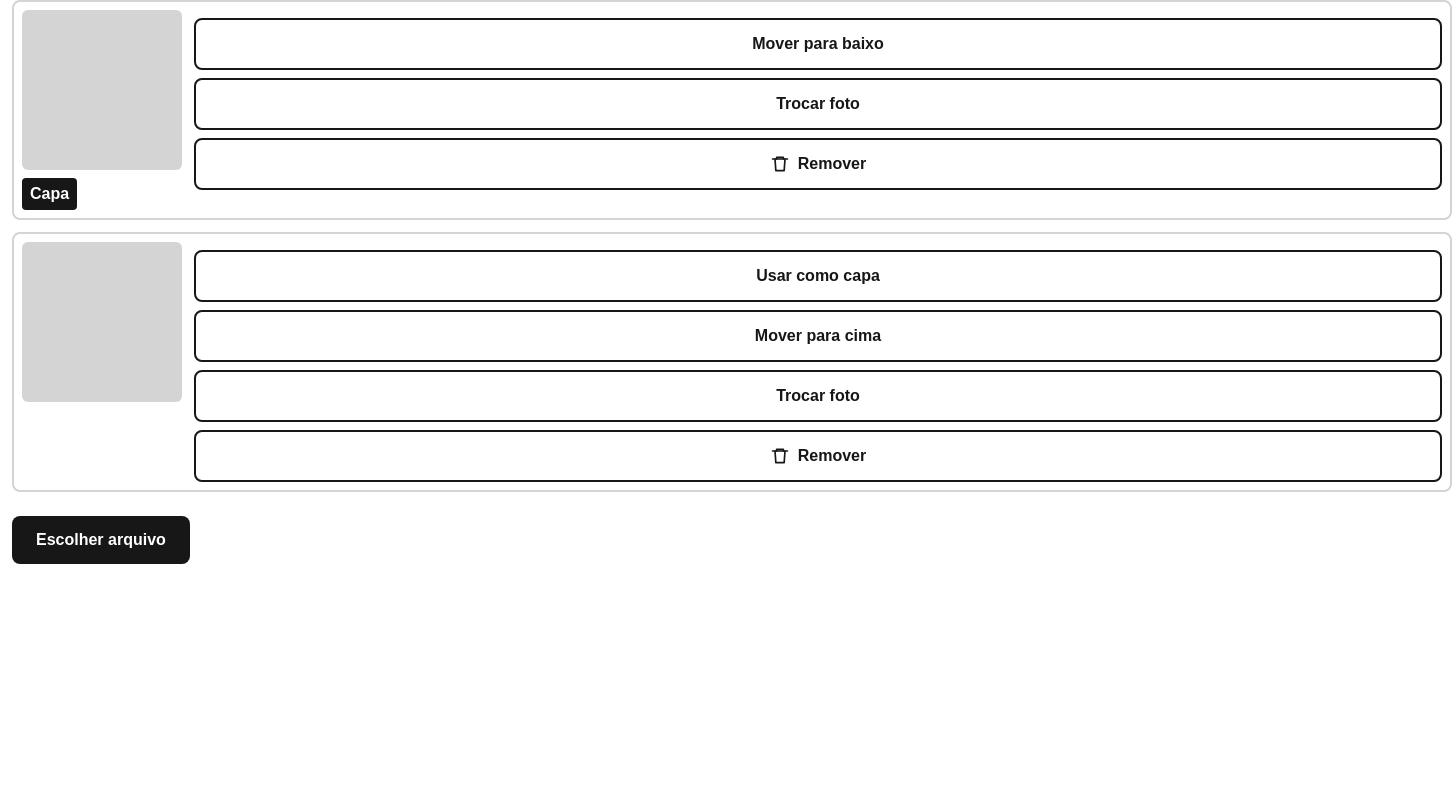
Test: GerenciarFotos — falhas (US5-AC1, FR-024) › falha sem `atual` ⇒ lista inalterada e mensagem de erro (role alert)
The image size is (1452, 810).
Click the button "Mover para baixo" at (818, 44), box [194,18,1442,70]
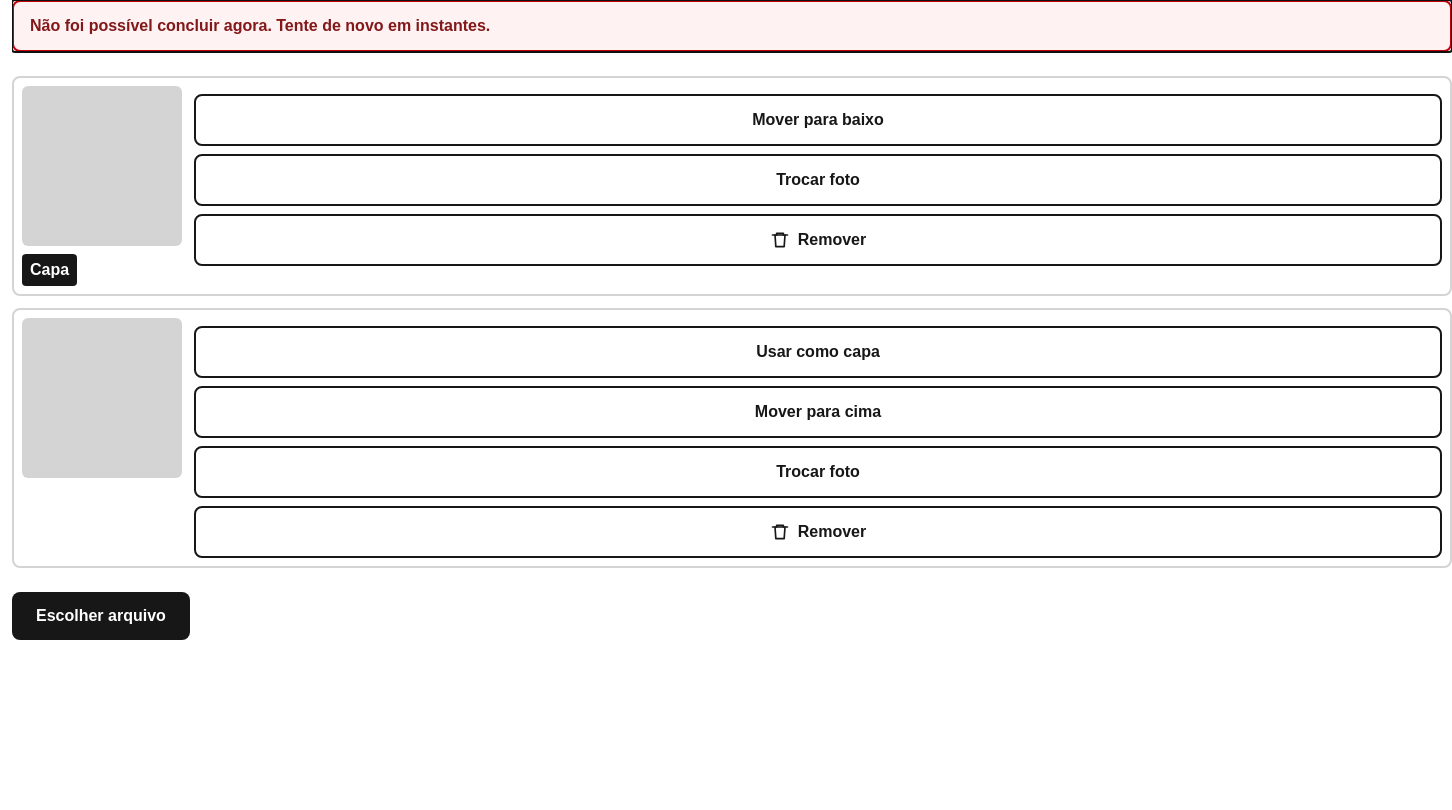
Check: the message reads "Não foi possível concluir agora. Tente de novo em instantes.", box [30,17,490,34]
